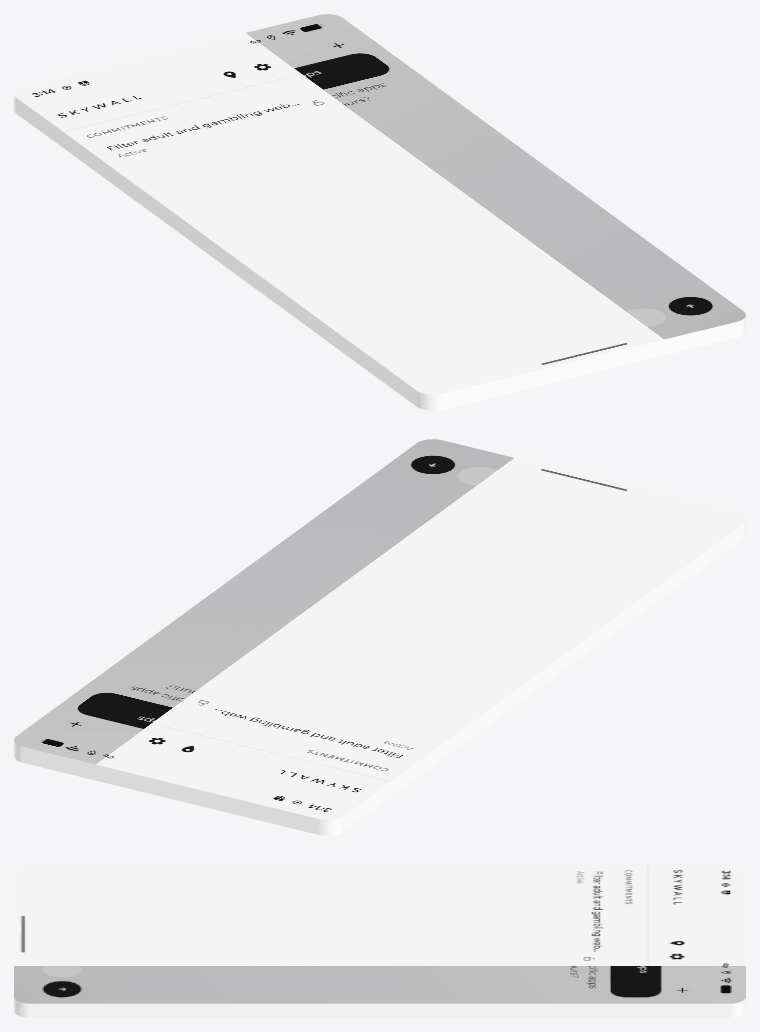
The model's file is os-panel-hamburger.glb.
3 views of the same model, one above another, from view 1: azimuth 30°, elevation 25°; view 2: azimuth 150°, elevation 25°; view 3: azimuth 270°, elevation 25° (orthographic). The views are drawn at different scales.
Parts seen in each view (by area): view 1: OS base.001; view 2: OS base.001; view 3: OS base.001.
Part boxes in pixels (x1,y1,x2,y2): OS base.001: [14, 14, 745, 410]; OS base.001: [14, 439, 745, 835]; OS base.001: [14, 864, 745, 1017].
Bounding box in the file's own units: 0.0636 × 0.00297 × 0.1413.
2 materials, 1 textured.
